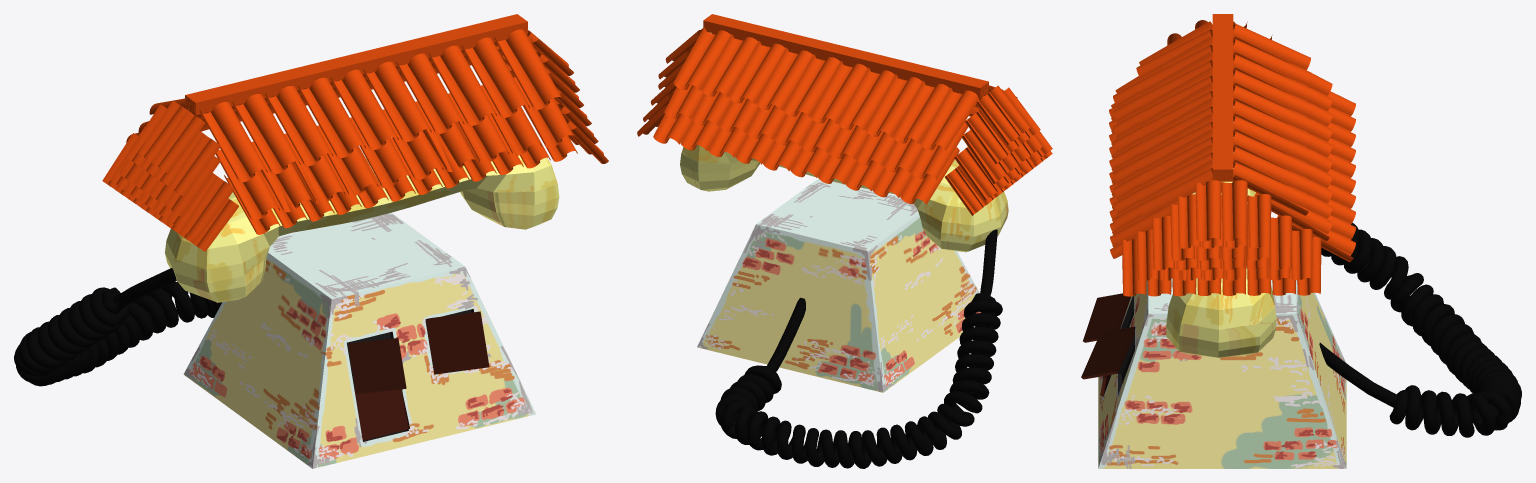
File: reieitura-telefone-crt.glb
The picture shows the model from 3 angles, left to right: view 1: azimuth 30°, elevation 25°; view 2: azimuth 150°, elevation 25°; view 3: azimuth 270°, elevation 25°; orthographic projection. The views are drawn at different scales.
Parts seen in each view (by area): view 1: Casa, Roof.005, Telefone, Roof.004, Fio, Roof.006, Cubo.003, Janela, Roof.016, Roof.014, Porta de cima, Roof.013 (+3 smaller); view 2: Casa, Roof.003, Fio, Roof.002, Roof.001, Telefone, Cubo.003, Roof.014, Roof.016, Roof.013, Roof.015, Roof.017; view 3: Casa, Fio, Roof.003, Roof.005, Telefone, Roof.012, Roof.004, Roof.001, Roof.002, Cubo.003, Roof.011, Roof.010 (+6 smaller).
Part boxes in pixels (<box>): Casa: <box>183,212,535,468</box>; Roof.005: <box>199,29,562,182</box>; Telefone: <box>165,155,559,302</box>; Roof.004: <box>215,77,574,220</box>; Fio: <box>14,268,221,386</box>; Roof.006: <box>224,105,577,234</box>; Cubo.003: <box>185,14,527,114</box>; Janela: <box>425,311,489,374</box>; Roof.016: <box>110,126,234,239</box>; Roof.014: <box>126,104,220,196</box>; Porta de cima: <box>348,338,406,394</box>; Roof.013: <box>138,100,204,172</box>; Casa: <box>697,178,981,392</box>; Roof.003: <box>673,27,979,150</box>; Fio: <box>715,229,1002,468</box>; Roof.002: <box>664,84,968,179</box>; Roof.001: <box>653,113,959,204</box>; Telefone: <box>680,145,1008,252</box>; Cubo.003: <box>703,14,988,98</box>; Roof.014: <box>964,87,1040,164</box>; Roof.016: <box>954,131,1052,200</box>; Roof.013: <box>976,85,1029,145</box>; Roof.015: <box>961,130,1042,183</box>; Roof.017: <box>945,151,1052,215</box>; Casa: <box>1098,278,1346,468</box>; Fio: <box>1319,223,1521,437</box>; Roof.003: <box>1233,23,1310,215</box>; Roof.005: <box>1136,21,1212,217</box>; Telefone: <box>1166,137,1276,357</box>; Roof.012: <box>1122,237,1321,296</box>; Roof.004: <box>1113,76,1191,245</box>; Roof.001: <box>1277,91,1355,262</box>; Roof.002: <box>1254,70,1332,241</box>; Cubo.003: <box>1212,14,1233,181</box>; Roof.011: <box>1137,228,1312,280</box>; Roof.010: <box>1152,215,1291,270</box>.
Bounding box in the file's own units: 9.86 × 7.68 × 8.62.
Materials: 6 (3 with a texture image).
